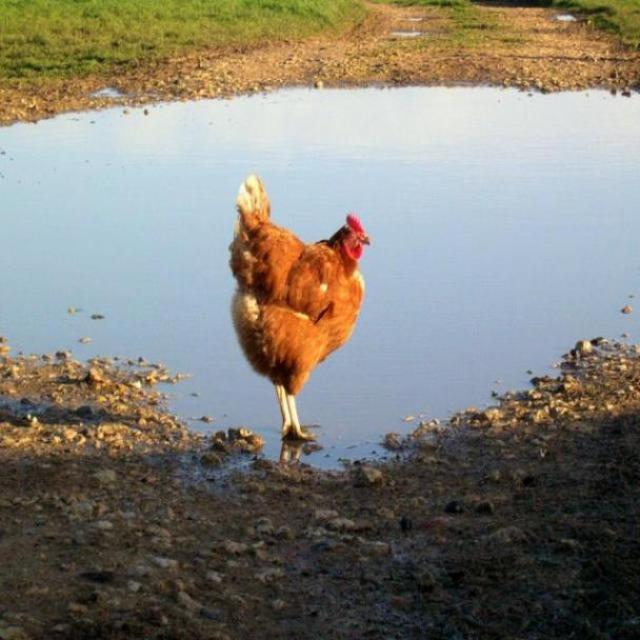Chicken: (228, 179, 372, 443)
